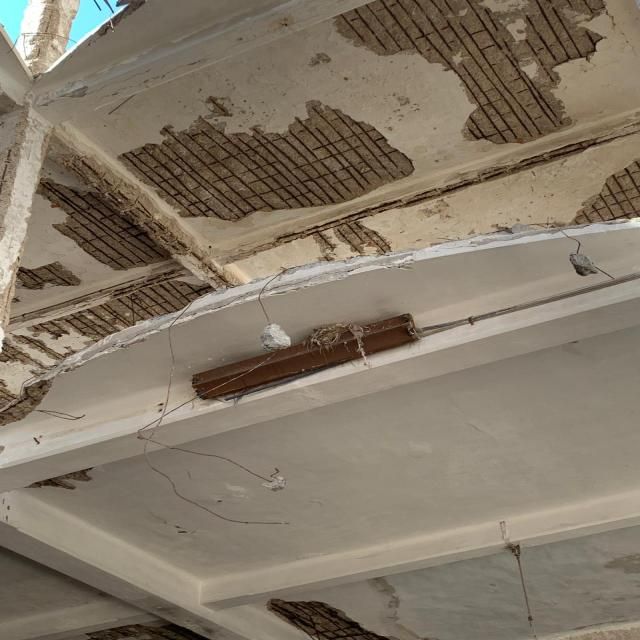Rebar: (85, 89, 415, 236), (332, 0, 639, 146), (0, 170, 211, 350), (564, 155, 640, 245), (1, 366, 65, 436)
